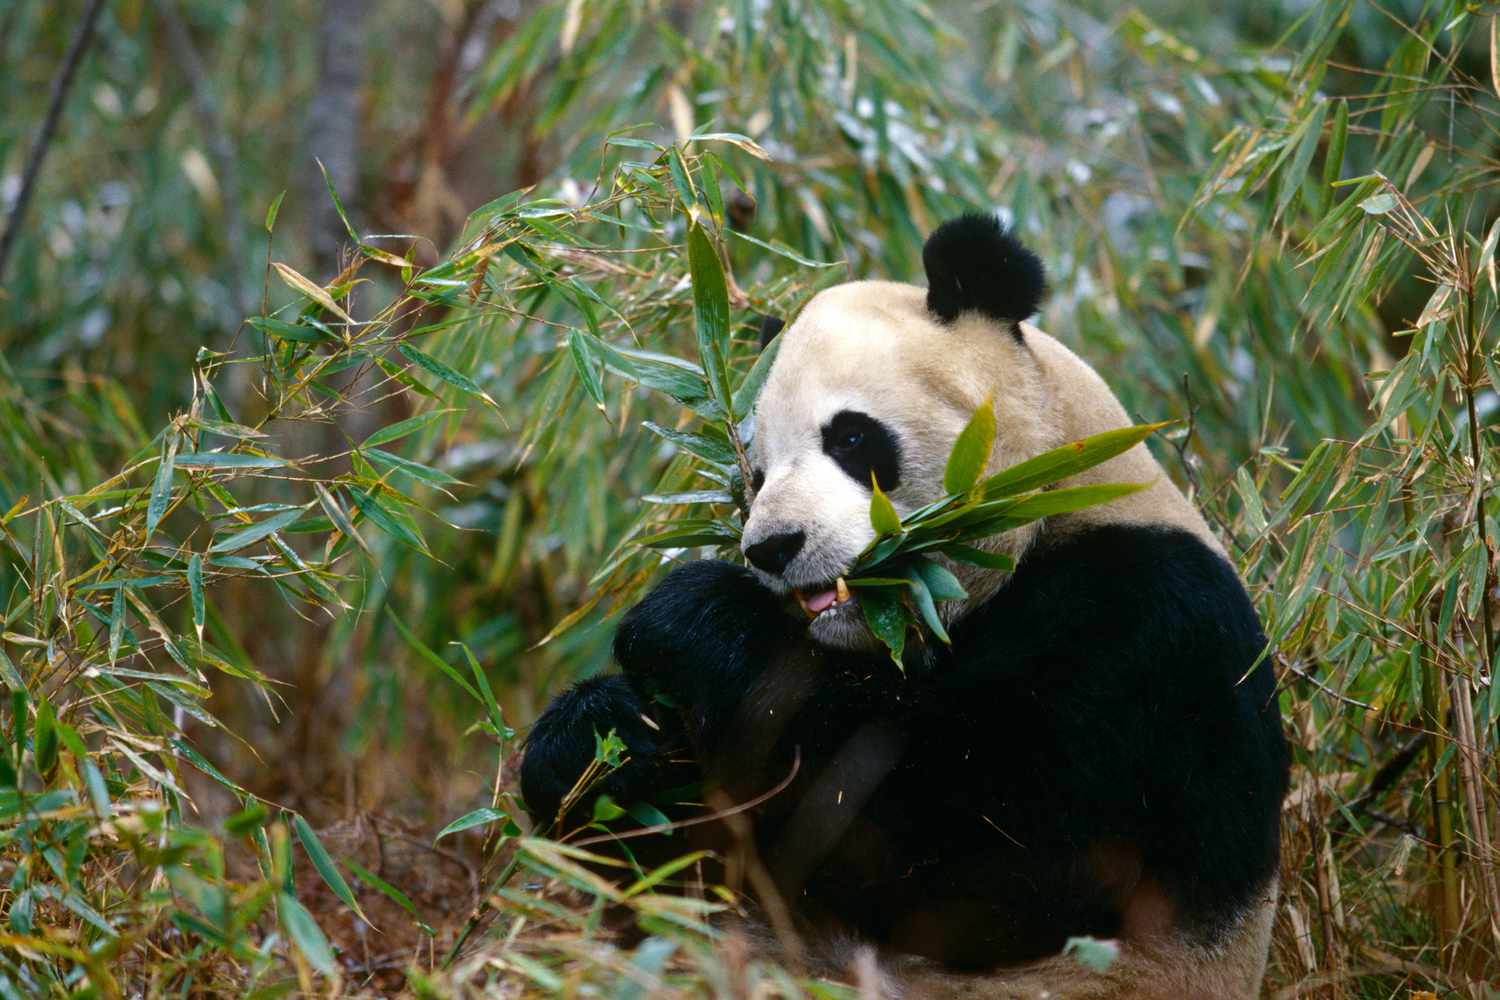Giant panda: (699, 217, 1060, 652)
